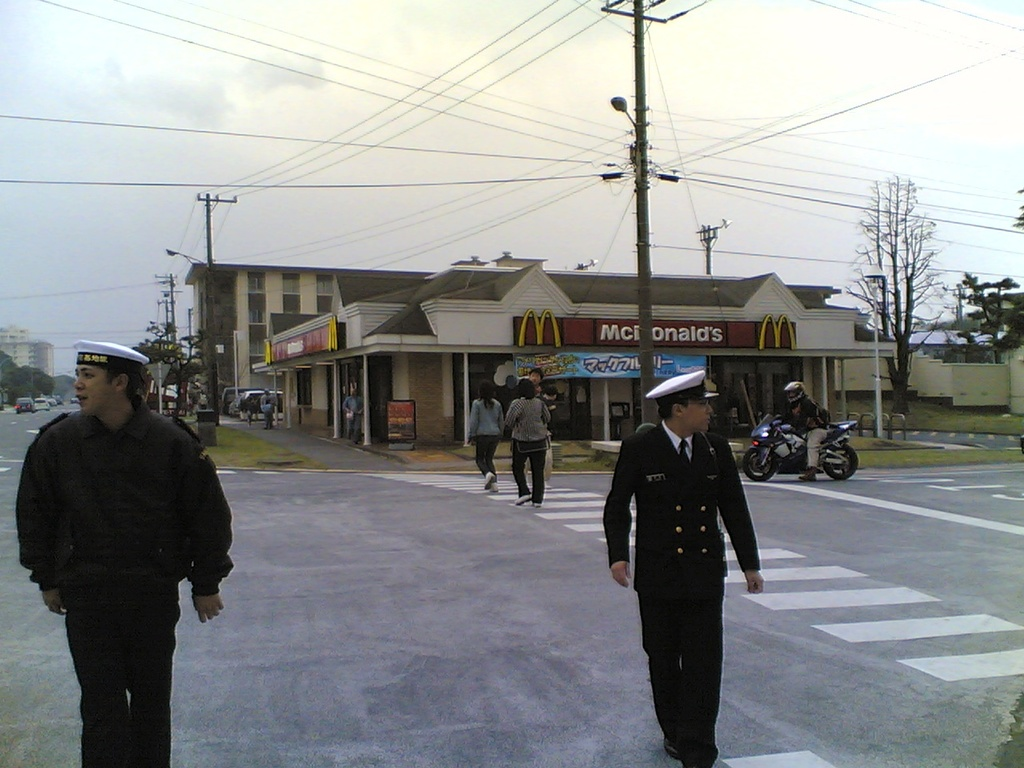cars: (243, 389, 287, 422), (14, 396, 32, 412), (225, 394, 240, 413), (31, 396, 49, 408), (67, 394, 81, 403), (47, 397, 57, 408)
